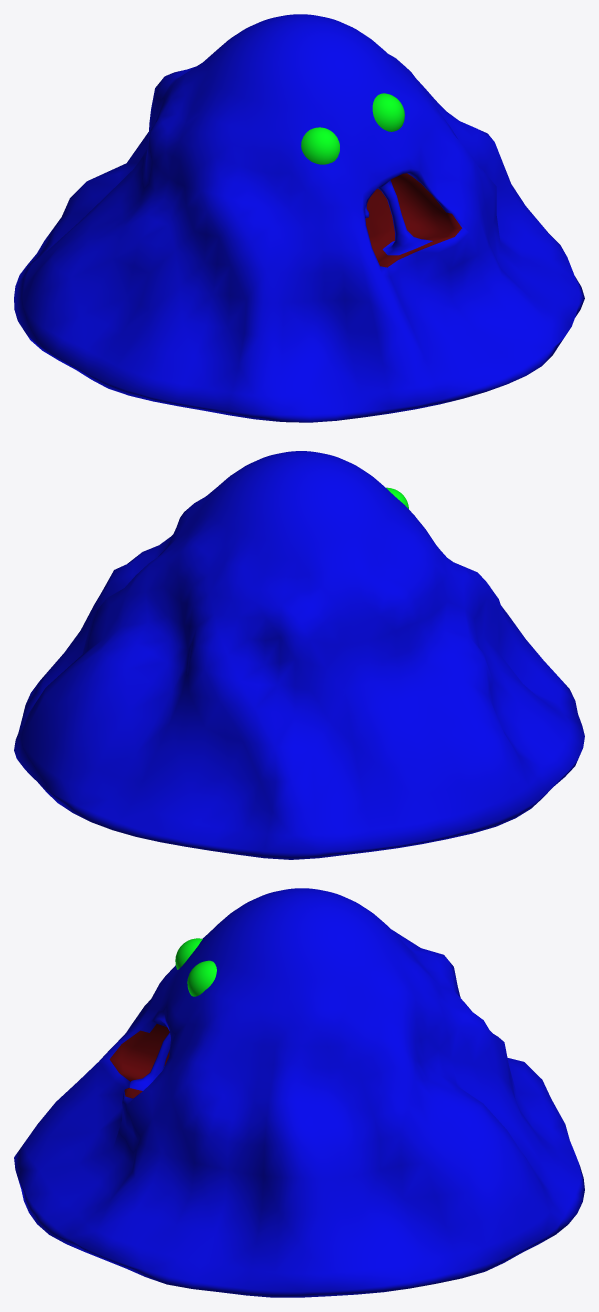
File: BossObsticle.fbx
3 views of the same model, one above another, from view 1: azimuth 30°, elevation 25°; view 2: azimuth 150°, elevation 25°; view 3: azimuth 270°, elevation 25° (orthographic).
Parts seen in each view (by area): view 1: Boos; view 2: Boos; view 3: Boos.
Part boxes in pixels (x1,y1,x2,y2): Boos: (14, 14, 584, 422); Boos: (14, 451, 584, 859); Boos: (14, 888, 584, 1297).
Bounding box in the file's own units: 222 × 120 × 220.
